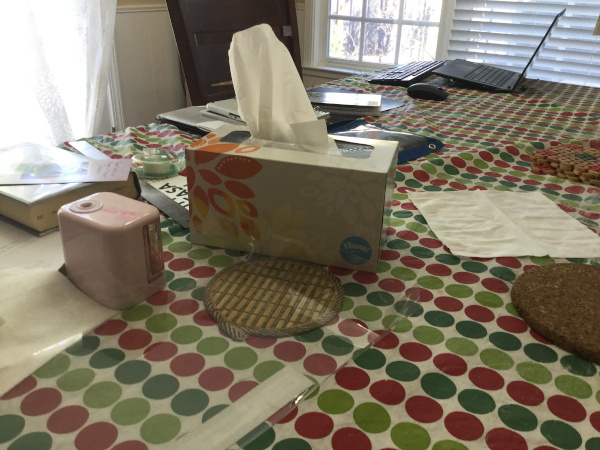box: (188, 31, 404, 267)
